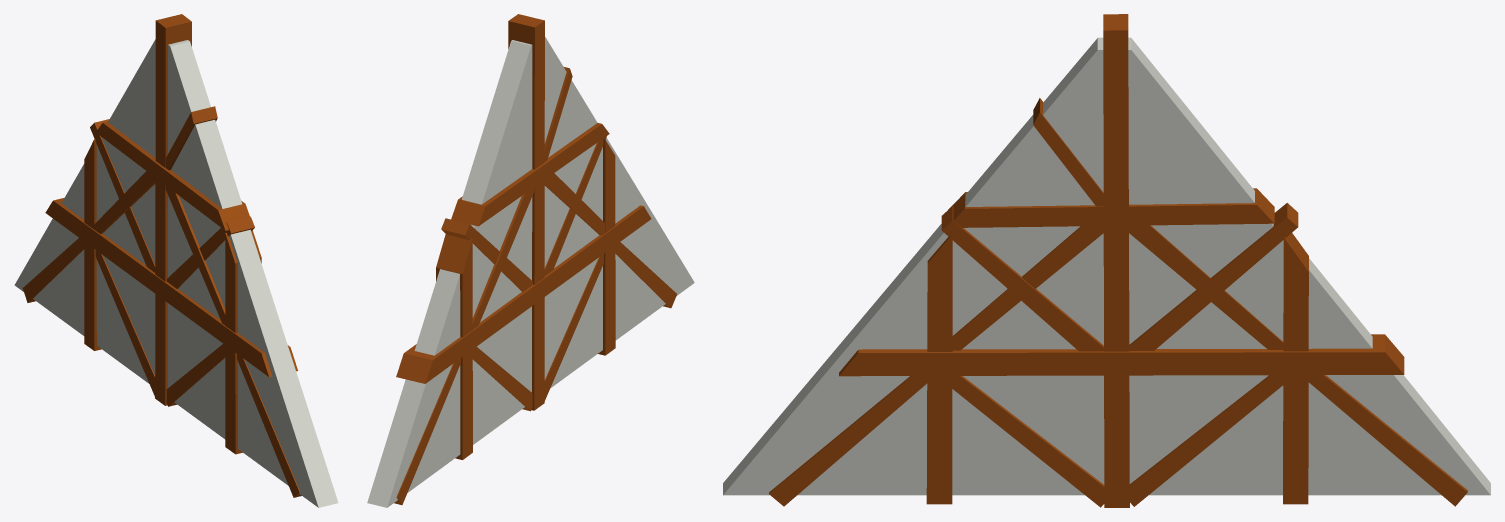
File: NormalRoofWall2.fbx
3 renders of one model, left to right at view 1: azimuth 30°, elevation 25°; view 2: azimuth 150°, elevation 25°; view 3: azimuth 270°, elevation 25°, orthographic. The views are drawn at different scales.
Visible parts, largest first — view 1: NormalRoofWall2; view 2: NormalRoofWall2; view 3: NormalRoofWall2.
Part boxes in pixels (x1,y1,x2,y2): NormalRoofWall2: (14,14,338,507); NormalRoofWall2: (367,14,694,507); NormalRoofWall2: (723,14,1490,507).
Bounding box in the file's own units: 113 × 1369 × 1993.
